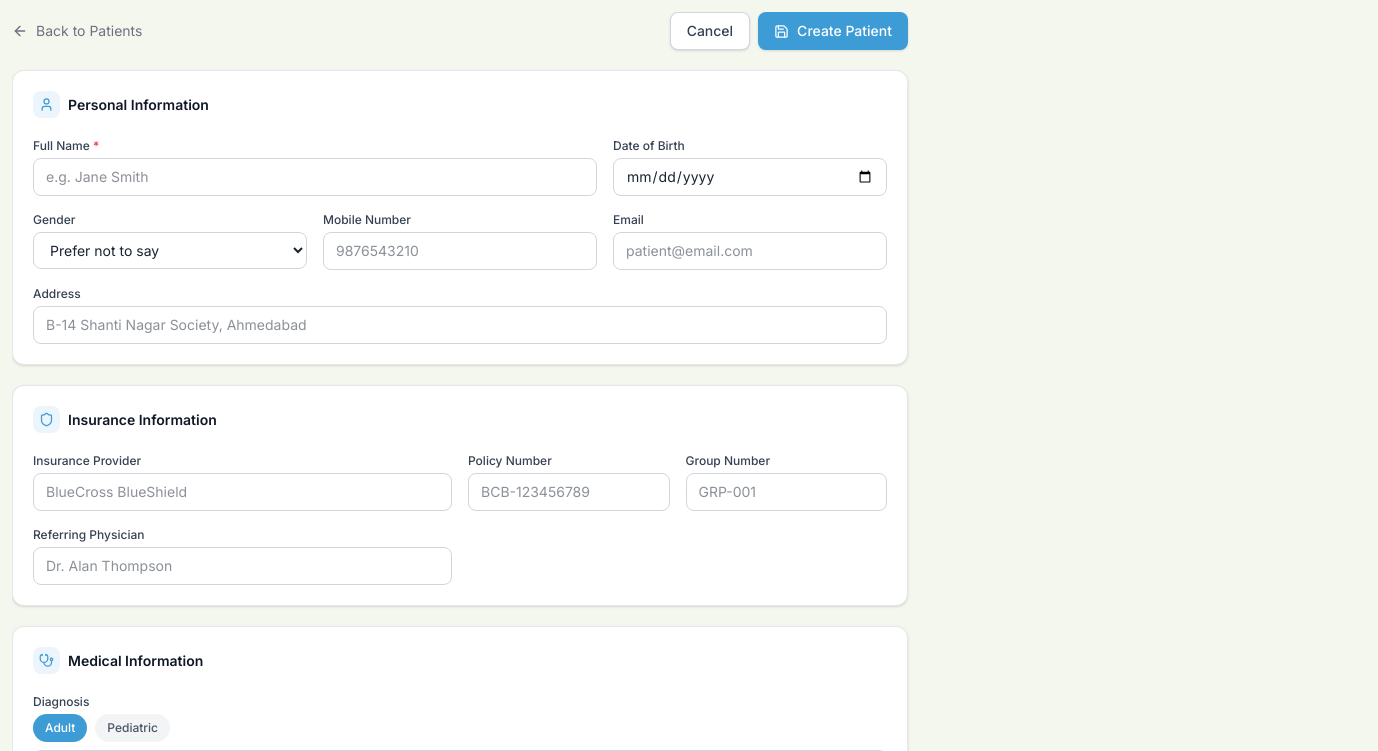
Test: PatientForm › creates a patient with just a name — mobile number and DOB are optional
The width and height of the screenshot is (1378, 751).
Type "Test Person" into the field with placeholder "e.g. Jane Smith" at [315, 177], box [33,158,597,196]
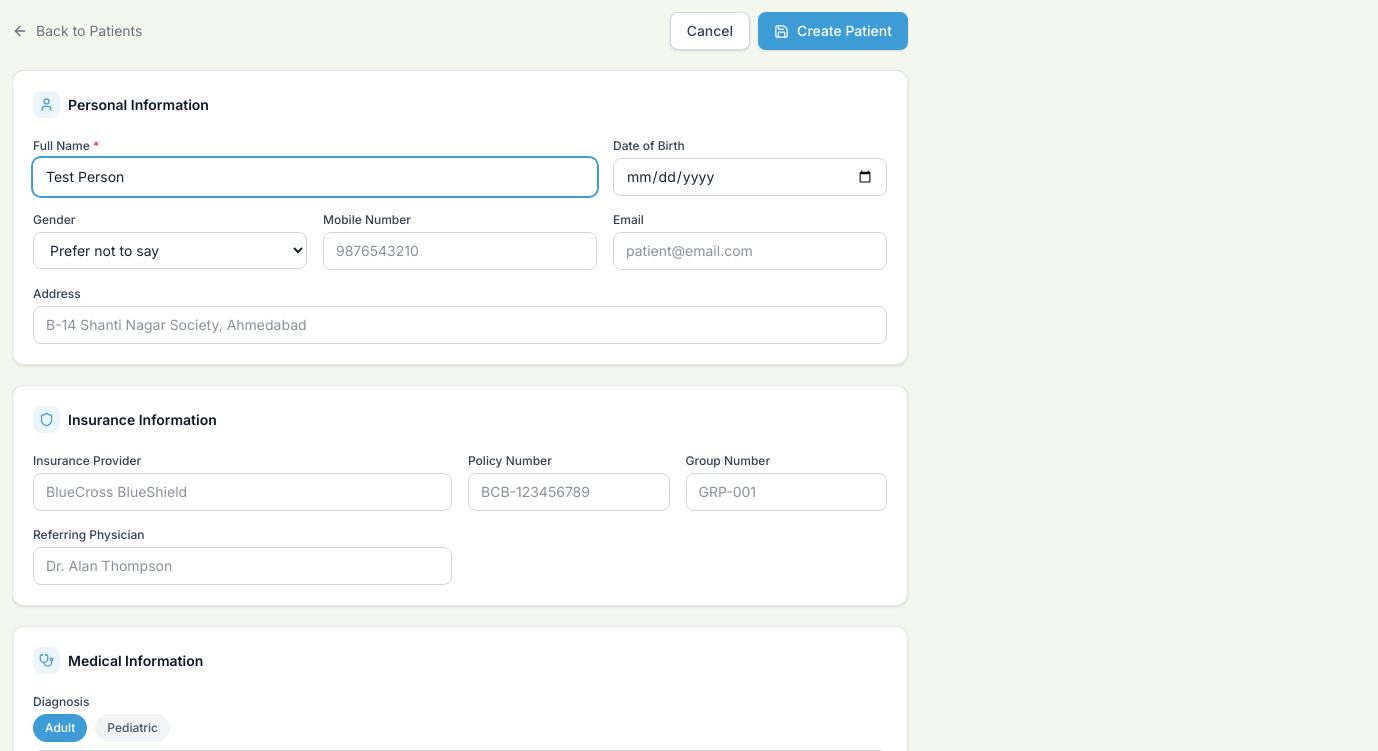
Click the button "Create Patient" at [833, 31], box [758,12,908,50]
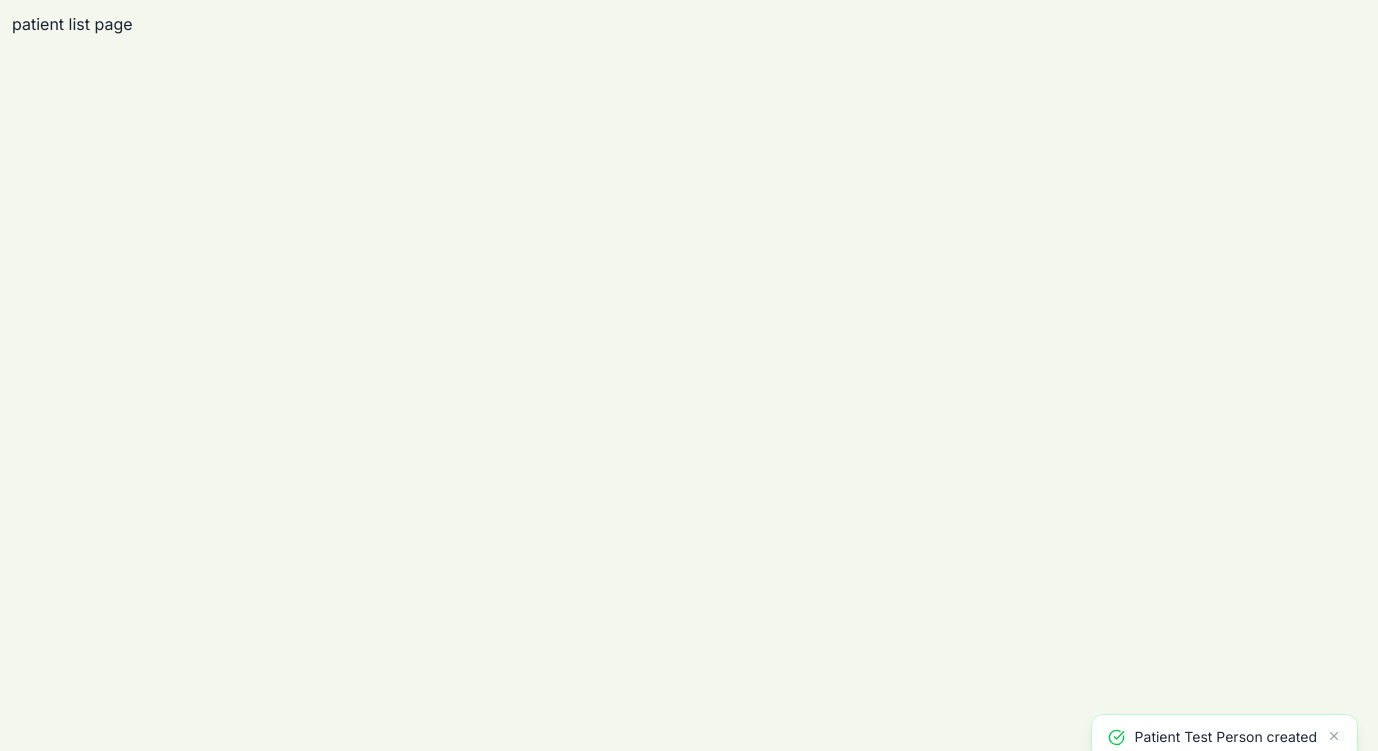
Check: the text "patient list page" is shown, box [12,14,133,34]
Check: the text "Patient Test Person created" is shown, box [1135,727,1317,747]
